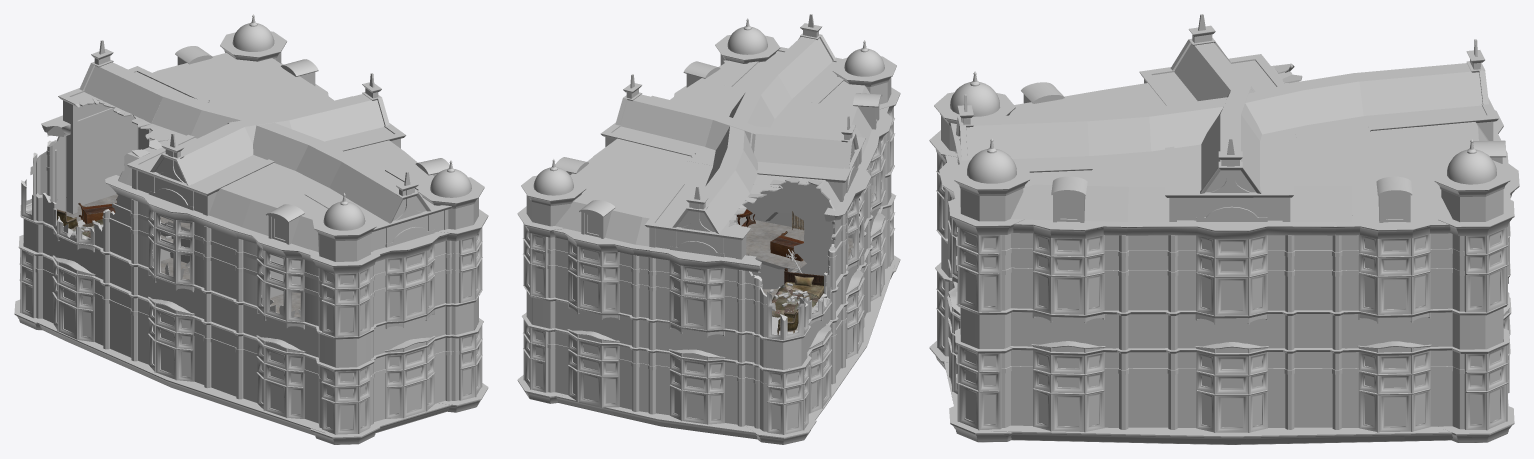
The model's file is backup.fbx.
3 renders of one model, left to right at view 1: azimuth 30°, elevation 25°; view 2: azimuth 150°, elevation 25°; view 3: azimuth 270°, elevation 25°, orthographic. The views are drawn at different scales.
Visible parts, largest first — view 1: LODGroup_1_MainMesh_1_SubMesh_7, LODGroup_1_MainMesh_1_SubMesh_3, LODGroup_1_MainMesh_1_SubMesh_1, LODGroup_1_MainMesh_1_SubMesh_10, LODGroup_1_MainMesh_1_SubMesh_4, LODGroup_1_MainMesh_1_SubMesh_6; view 2: LODGroup_1_MainMesh_1_SubMesh_7, LODGroup_1_MainMesh_1_SubMesh_3, LODGroup_1_MainMesh_1_SubMesh_1, LODGroup_1_MainMesh_1_SubMesh_6, LODGroup_1_MainMesh_1_SubMesh_10, LODGroup_1_MainMesh_1_SubMesh_12, LODGroup_1_MainMesh_1_SubMesh_4, LODGroup_1_MainMesh_1_SubMesh_13; view 3: LODGroup_1_MainMesh_1_SubMesh_7, LODGroup_1_MainMesh_1_SubMesh_3, LODGroup_1_MainMesh_1_SubMesh_1.
Part boxes in pixels (left/top/right/bottom): LODGroup_1_MainMesh_1_SubMesh_7: left=23, top=14, right=478, bottom=428; LODGroup_1_MainMesh_1_SubMesh_3: left=20, top=154, right=482, bottom=434; LODGroup_1_MainMesh_1_SubMesh_1: left=14, top=31, right=488, bottom=444; LODGroup_1_MainMesh_1_SubMesh_10: left=65, top=194, right=300, bottom=317; LODGroup_1_MainMesh_1_SubMesh_4: left=21, top=99, right=189, bottom=252; LODGroup_1_MainMesh_1_SubMesh_6: left=160, top=232, right=300, bottom=297; LODGroup_1_MainMesh_1_SubMesh_7: left=526, top=14, right=891, bottom=431; LODGroup_1_MainMesh_1_SubMesh_3: left=523, top=107, right=893, bottom=434; LODGroup_1_MainMesh_1_SubMesh_1: left=517, top=23, right=900, bottom=444; LODGroup_1_MainMesh_1_SubMesh_6: left=686, top=159, right=852, bottom=289; LODGroup_1_MainMesh_1_SubMesh_10: left=746, top=193, right=872, bottom=299; LODGroup_1_MainMesh_1_SubMesh_12: left=772, top=268, right=826, bottom=317; LODGroup_1_MainMesh_1_SubMesh_4: left=729, top=180, right=844, bottom=327; LODGroup_1_MainMesh_1_SubMesh_13: left=770, top=231, right=803, bottom=261; LODGroup_1_MainMesh_1_SubMesh_7: left=941, top=14, right=1508, bottom=429; LODGroup_1_MainMesh_1_SubMesh_3: left=937, top=153, right=1509, bottom=432; LODGroup_1_MainMesh_1_SubMesh_1: left=929, top=25, right=1519, bottom=444.
Bounding box in the file's own units: 1344 × 1110 × 1976.
